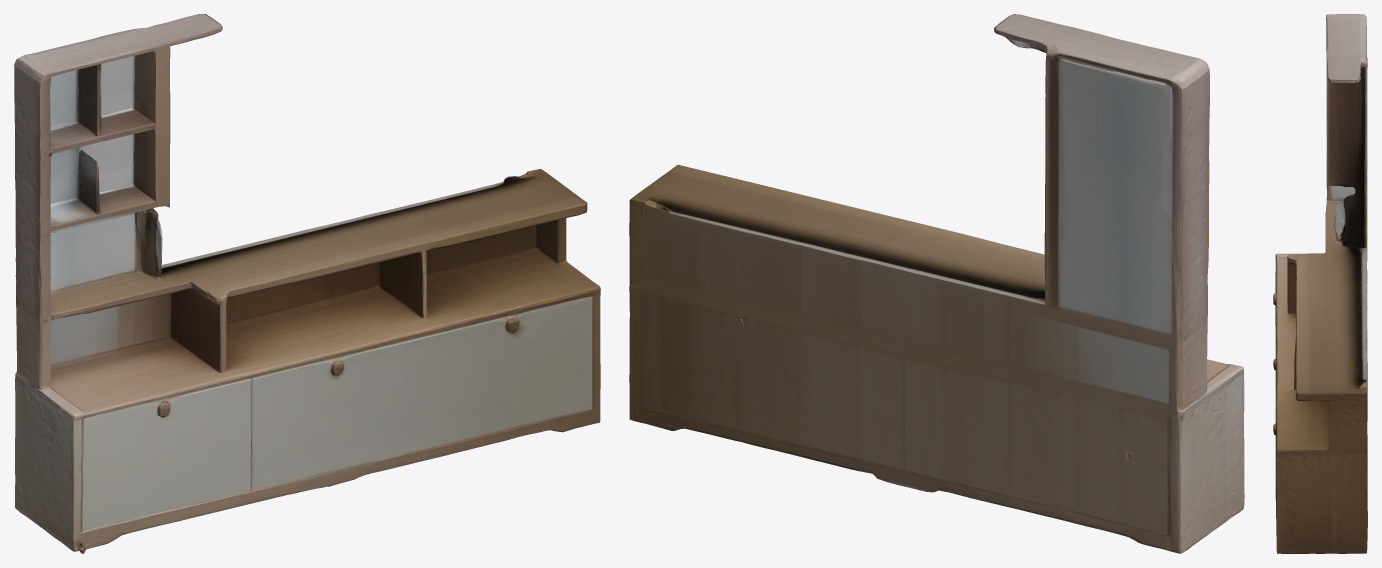
The picture shows the model from 3 angles, left to right: view 1: azimuth 30°, elevation 25°; view 2: azimuth 150°, elevation 25°; view 3: azimuth 270°, elevation 25°; orthographic projection. The views are drawn at different scales.
Parts seen in each view (by area): view 1: geometry_0; view 2: geometry_0; view 3: geometry_0.
Part boxes in pixels (bbox=[...]): geometry_0: bbox=[14, 14, 600, 553]; geometry_0: bbox=[629, 14, 1244, 553]; geometry_0: bbox=[1273, 14, 1367, 553].
Bounding box in the file's own units: 1 × 0.8306 × 0.2033.
1 material, 1 textured.
